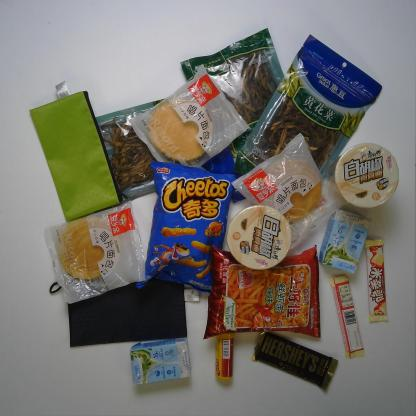Candy: (214, 332, 236, 380)
Chocolate: (250, 332, 340, 390), (329, 274, 366, 361), (363, 238, 390, 323)
Dessert: (230, 132, 349, 251), (130, 63, 253, 168), (42, 200, 146, 305)
Dried Food: (233, 31, 386, 180), (180, 29, 285, 205), (95, 98, 237, 196)
Instant Noodles: (326, 142, 400, 210), (225, 205, 294, 271)
Milk: (318, 209, 373, 276), (129, 336, 192, 386)
Puffed Food: (136, 160, 237, 295), (201, 245, 322, 339)
Stationery: (28, 79, 129, 222), (48, 276, 200, 348)
